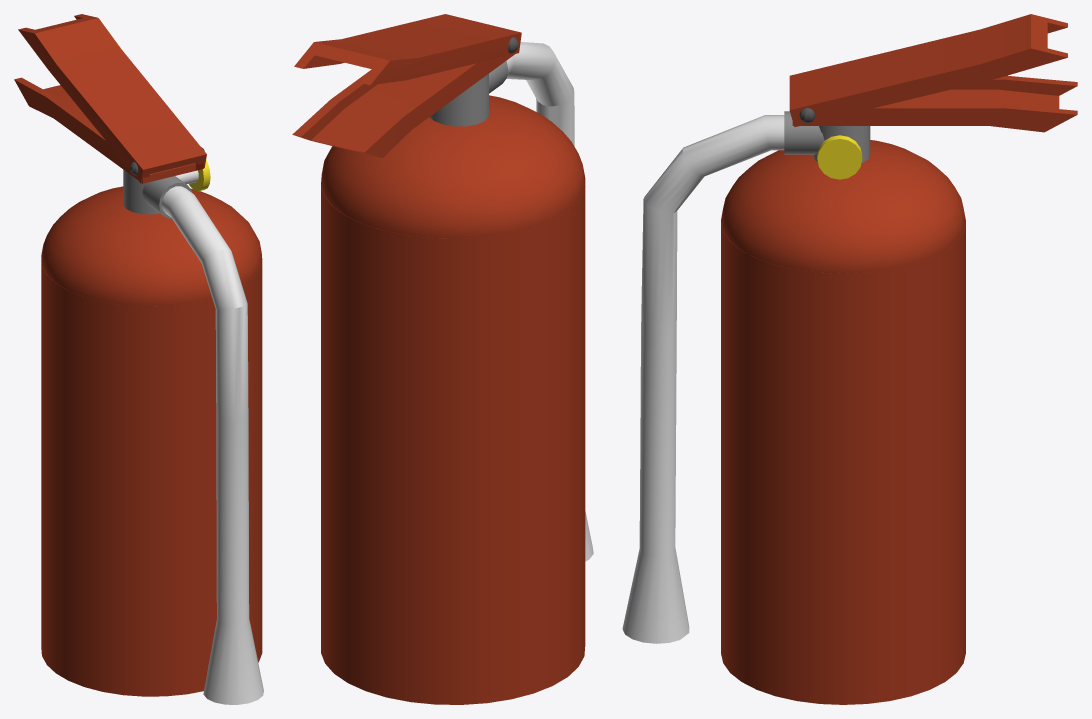
The model's file is Extintor_DaniloC_46872076.fbx.
3 views of the same model, side by side, from view 1: azimuth 30°, elevation 25°; view 2: azimuth 150°, elevation 25°; view 3: azimuth 270°, elevation 25° (orthographic). The views are drawn at different scales.
Visible parts, largest first — view 1: Cuerpo; view 2: Cuerpo; view 3: Cuerpo.
Boxes of the visible parts, x1,y1,x2,y2 form: Cuerpo: (14, 14, 263, 704); Cuerpo: (292, 14, 593, 704); Cuerpo: (622, 14, 1077, 704).
Bounding box in the file's own units: 17 × 47.58 × 31.56.
Materials: 8 (5 with a texture image).
